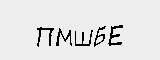Б: (90, 25, 108, 46)
Е: (106, 23, 125, 47)
М: (54, 25, 73, 48)
П: (35, 25, 54, 49)
Ш: (74, 27, 92, 48)
